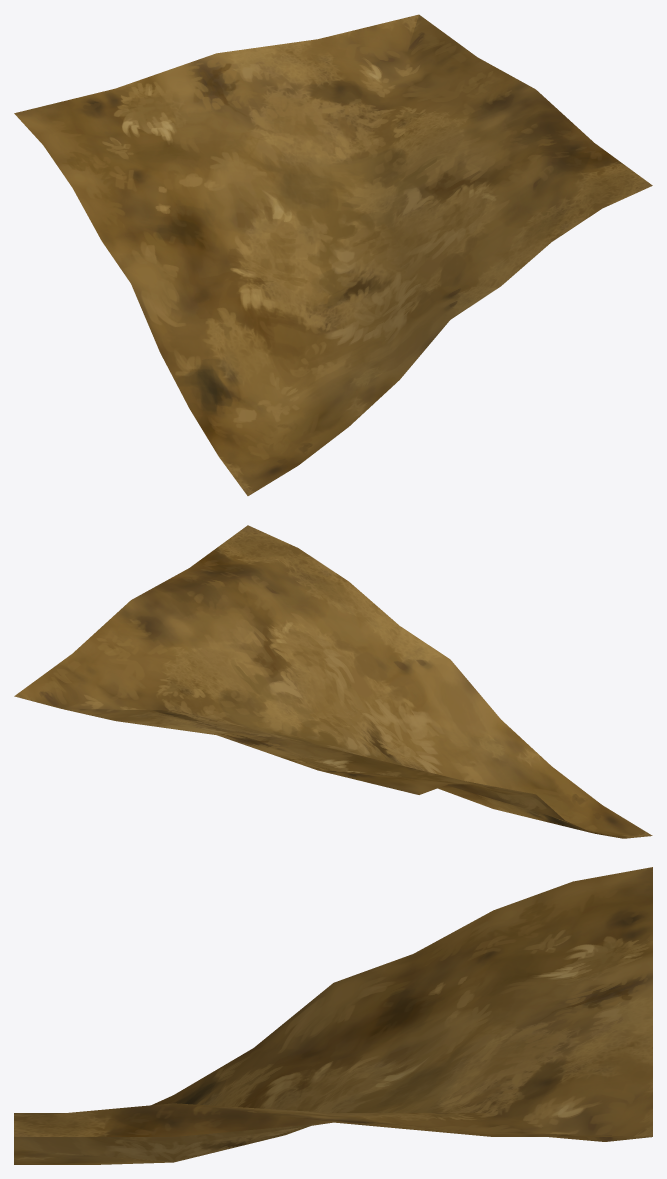
The model's file is Slope_Incline_001.fbx.
3 views of the same model, one above another, from view 1: azimuth 30°, elevation 25°; view 2: azimuth 150°, elevation 25°; view 3: azimuth 270°, elevation 25° (orthographic). The views are drawn at different scales.
Parts seen in each view (by area): view 1: Slope_Incline_001; view 2: Slope_Incline_001; view 3: Slope_Incline_001.
Part boxes in pixels (x1,y1,x2,y2): Slope_Incline_001: (14,14,652,495); Slope_Incline_001: (14,525,652,838); Slope_Incline_001: (14,867,652,1164).
Bounding box in the file's own units: 10 × 5.25 × 10.
1 material, 1 textured.
